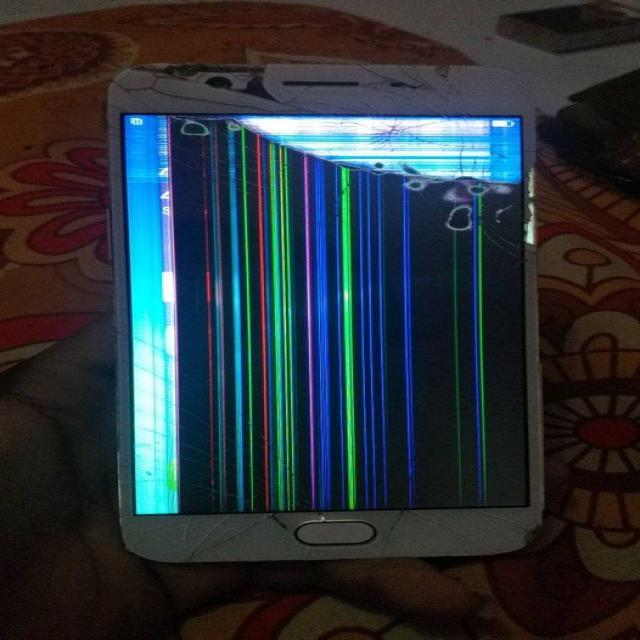phone: (105, 60, 552, 576)
